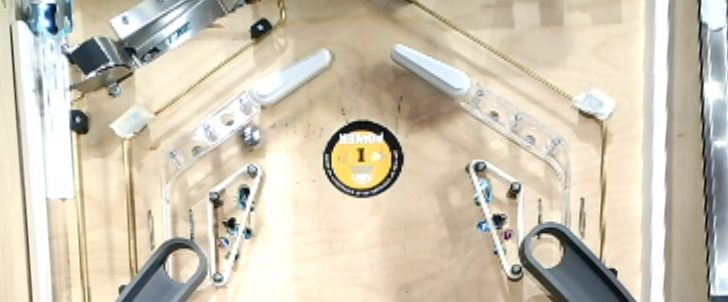ball: (237, 121, 265, 153)
flipper-left: (393, 41, 473, 102)
flipper-right: (248, 44, 335, 109)
